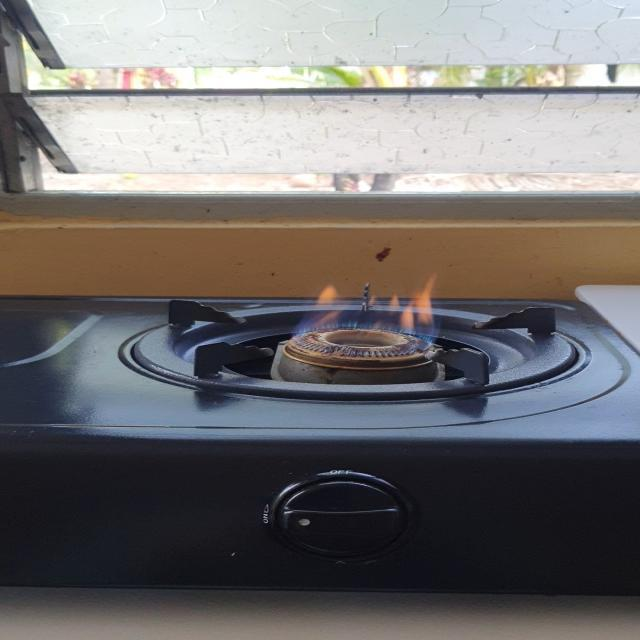Flame: (290, 304, 463, 363)
